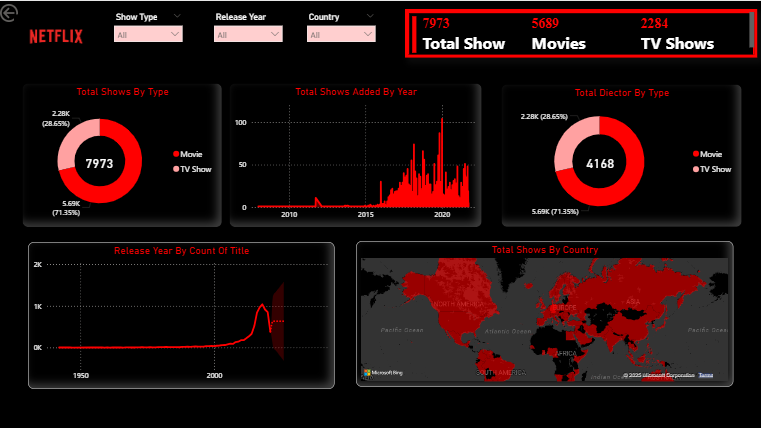

The dashboard page shown, as its layout file describes it:
{"tool":"powerbi","page":{"name":"Predictive Model","canvas":[1280,720],"ordinal":2},"visuals":[{"type":"multiRowCard","fields":{"Values":["Measure_.Total Show","Measure_.Movies","Measure_.TV Shws"]},"box":[679.5,13,587,81],"z":0},{"type":"donutChart","title":"Total Shows By Type","fields":{"Category":["netflix_titles (2).type"],"Y":["CountNonNull(netflix_titles (2).Country_New)"]},"box":[41.9,135.9,334,241.4],"z":1000},{"type":"areaChart","title":"Total Shows Added By Year","fields":{"Category":["netflix_titles (2).date_added.Variation.Date Hierarchy.Year","netflix_titles (2).date_added.Variation.Date Hierarchy.Quarter","netflix_titles (2).date_added.Variation.Date Hierarchy.Month","netflix_titles (2).date_added.Variation.Date Hierarchy.Day"],"Y":["CountNonNull(netflix_titles (2).show_id)"]},"box":[387.5,135.9,422.2,241.4],"z":2000},{"type":"donutChart","title":"Total Diector By Type","fields":{"Category":["netflix_titles (2).type"],"Y":["CountNonNull(netflix_titles (2).Director_new)"]},"box":[840,138.8,401.9,238.6],"z":3000},{"type":"card","fields":{"Values":["Measure_.Total Director"]},"box":[910.4,230.1,191.5,80.6],"z":4000},{"type":"lineChart","title":"Release Year By Count Of Title","fields":{"Y":["CountNonNull(netflix_titles (2).title)"],"Category":["netflix_titles (2).release_year"]},"box":[51.1,401.4,510.6,244.7],"z":5000},{"type":"slicer","fields":{"Values":["netflix_titles (2).type"]},"box":[185.1,13,134.5,81],"z":6000},{"type":"slicer","fields":{"Values":["netflix_titles (2).release_year"]},"box":[351.3,13,134.5,81],"z":7000},{"type":"actionButton","box":[0,0,100,40],"z":8000},{"type":"slicer","fields":{"Values":["netflix_titles (2).Country_New"]},"box":[506,13,134.5,81],"z":9000},{"type":"image","box":[23.1,13,153.3,94],"z":10000},{"type":"card","fields":{"Values":["Measure_.Total Show"]},"box":[88.2,244.3,164.8,52],"z":11000},{"type":"filledMap","title":"Total Shows By Country","fields":{"Category":["netflix_titles (2).Country_New"]},"box":[598.6,399.7,628.6,243],"z":12000}]}

Visuals, with their boxes in screenshot pixels (x1, y1, x2, y2), scaled from the page's 1280x720 canvas onto the 761x428 screenshot:
multiRowCard - Measure_.Total Show x Measure_.Movies: (left=404, top=8, right=753, bottom=56)
"Total Shows By Type" donutChart: (left=25, top=81, right=223, bottom=224)
"Total Shows Added By Year" areaChart: (left=230, top=81, right=481, bottom=224)
"Total Diector By Type" donutChart: (left=499, top=83, right=738, bottom=224)
card - Measure_.Total Director: (left=541, top=137, right=655, bottom=185)
"Release Year By Count Of Title" lineChart: (left=30, top=239, right=334, bottom=384)
slicer - netflix_titles (2).type: (left=110, top=8, right=190, bottom=56)
slicer - netflix_titles (2).release_year: (left=209, top=8, right=289, bottom=56)
actionButton: (left=0, top=0, right=59, bottom=24)
slicer - netflix_titles (2).Country_New: (left=301, top=8, right=381, bottom=56)
image: (left=14, top=8, right=105, bottom=64)
card - Measure_.Total Show: (left=52, top=145, right=150, bottom=176)
"Total Shows By Country" filledMap: (left=356, top=238, right=730, bottom=382)
